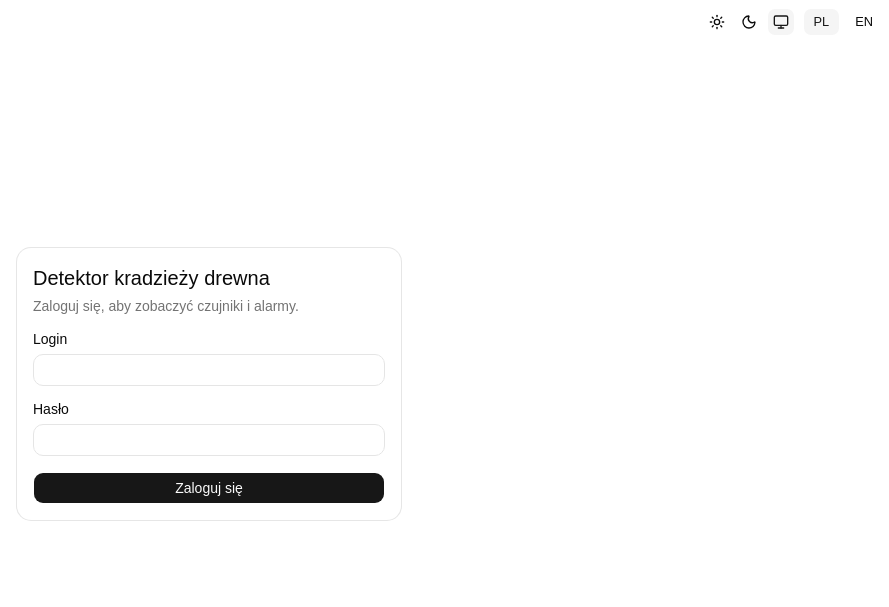
Test: forced password change › blocks the home page until the temporary password is changed
This screenshot has width=889, height=607.
Type "nowy.lesniczy" into the field labelled "Login" at (209, 370), box [33,354,385,386]
Type "Tymczasowe123!" into the password field labelled "Hasło" at (209, 440), box [33,424,385,456]
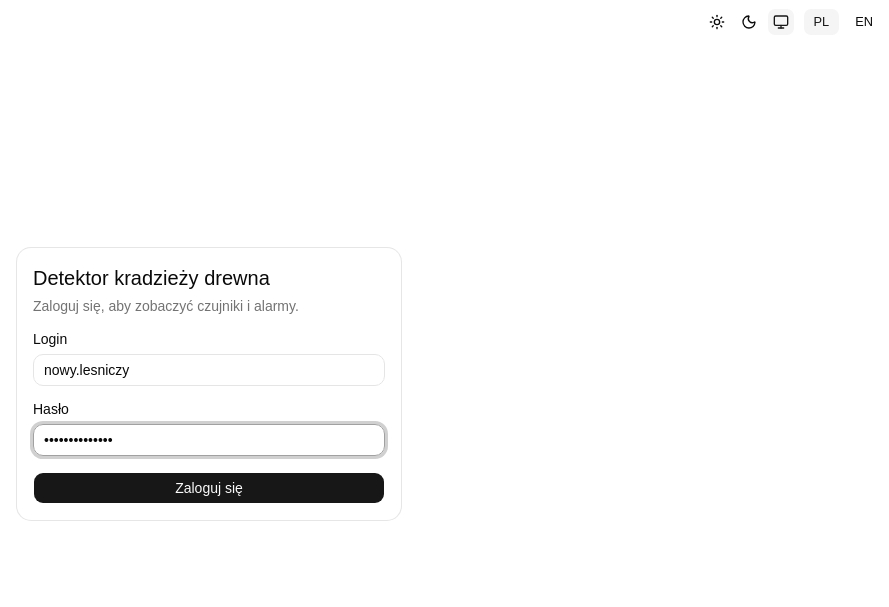
Click the button "Zaloguj się" at (209, 488), box [33,472,385,504]
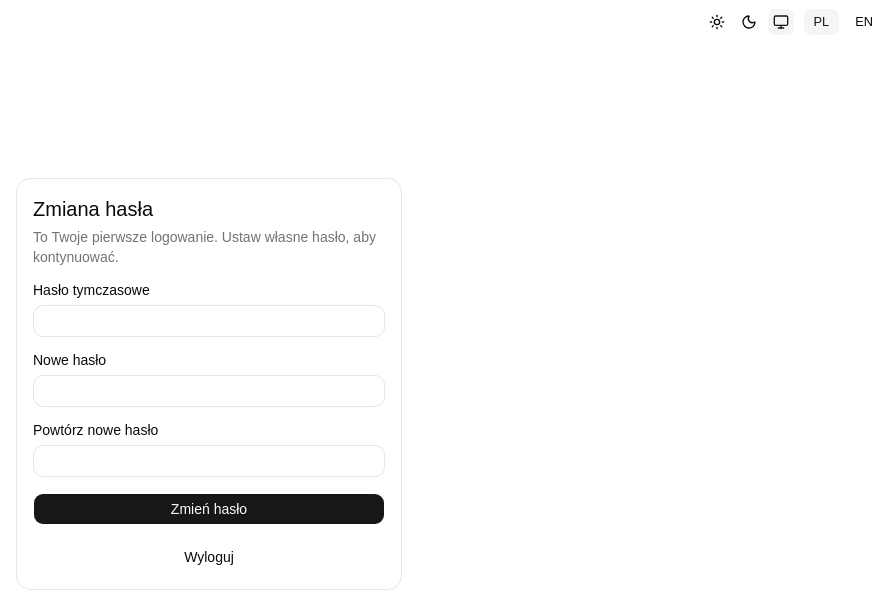
Type "Tymczasowe123!" into the password field labelled "Hasło tymczasowe" at (209, 321), box [33,305,385,337]
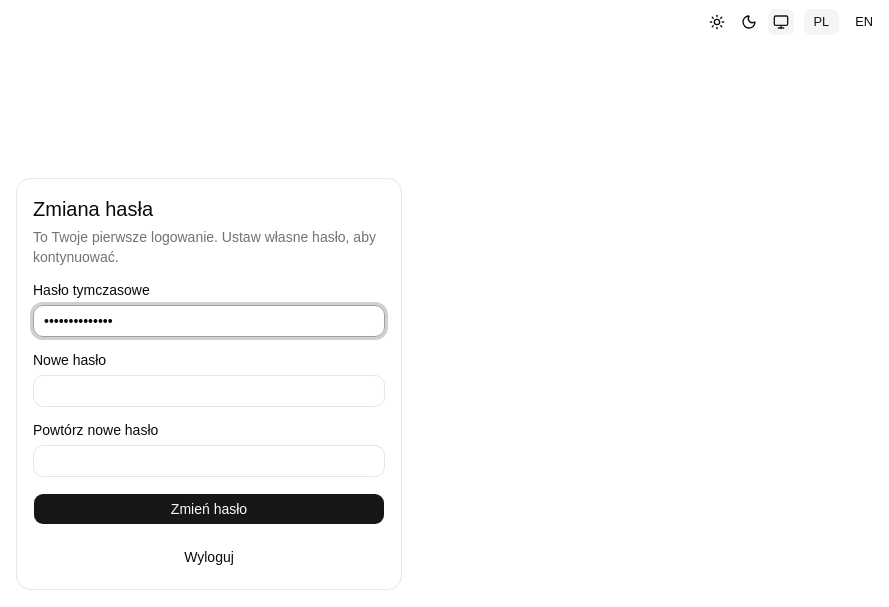
Type "NoweHaslo1" into the password field labelled "Nowe hasło" at (209, 391), box [33,375,385,407]
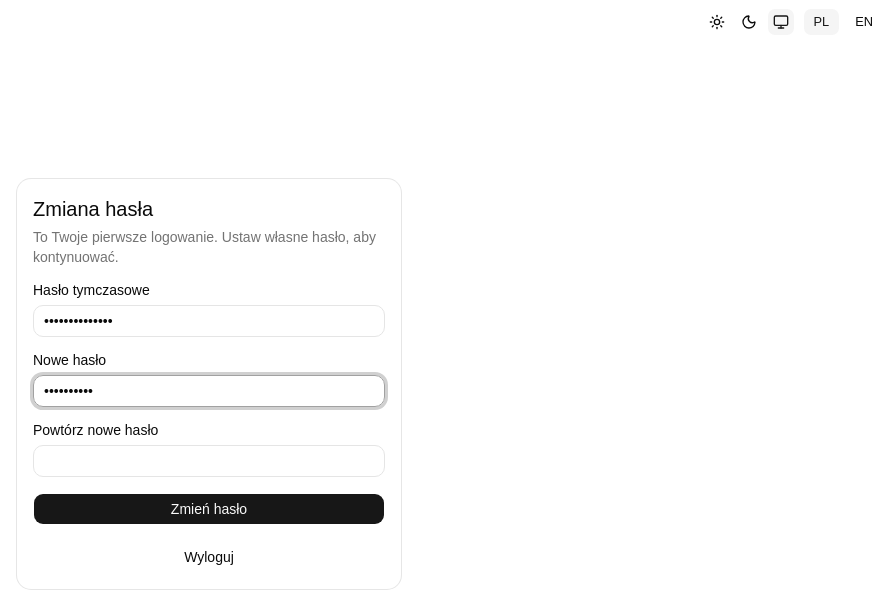
Type "NoweHaslo1" into the password field labelled "Powtórz nowe hasło" at (209, 461), box [33,445,385,477]
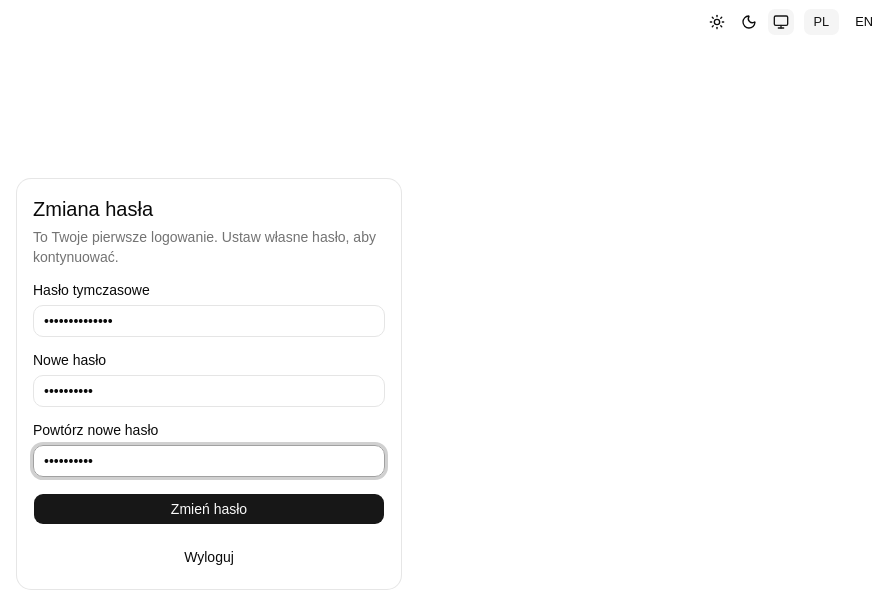
Click the button "Zmień hasło" at (209, 509), box [33,493,385,525]
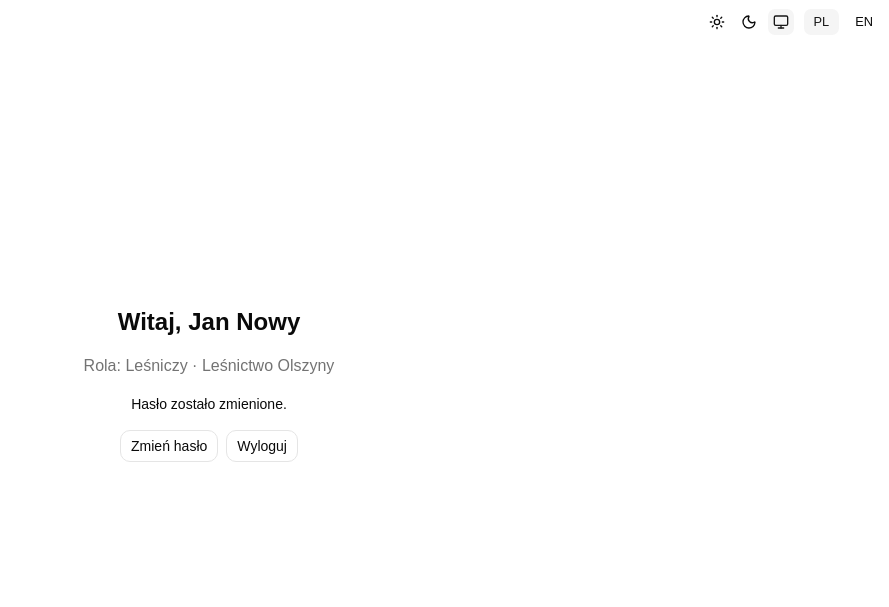
Now the heading "Witaj, Jan Nowy" is shown, box [118,306,300,338]
Now the text "Hasło zostało zmienione." is shown, box [131,394,287,414]
